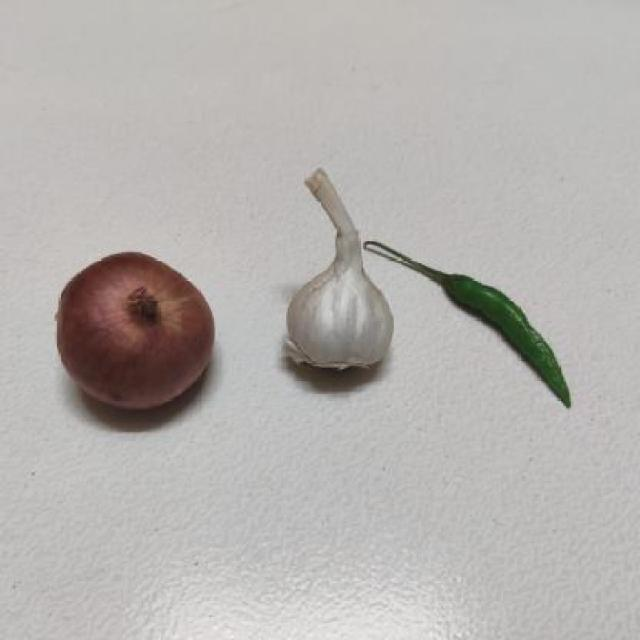Garlic: (272, 140, 405, 400)
Green Chili: (403, 224, 586, 423)
Onion: (43, 237, 228, 440)
